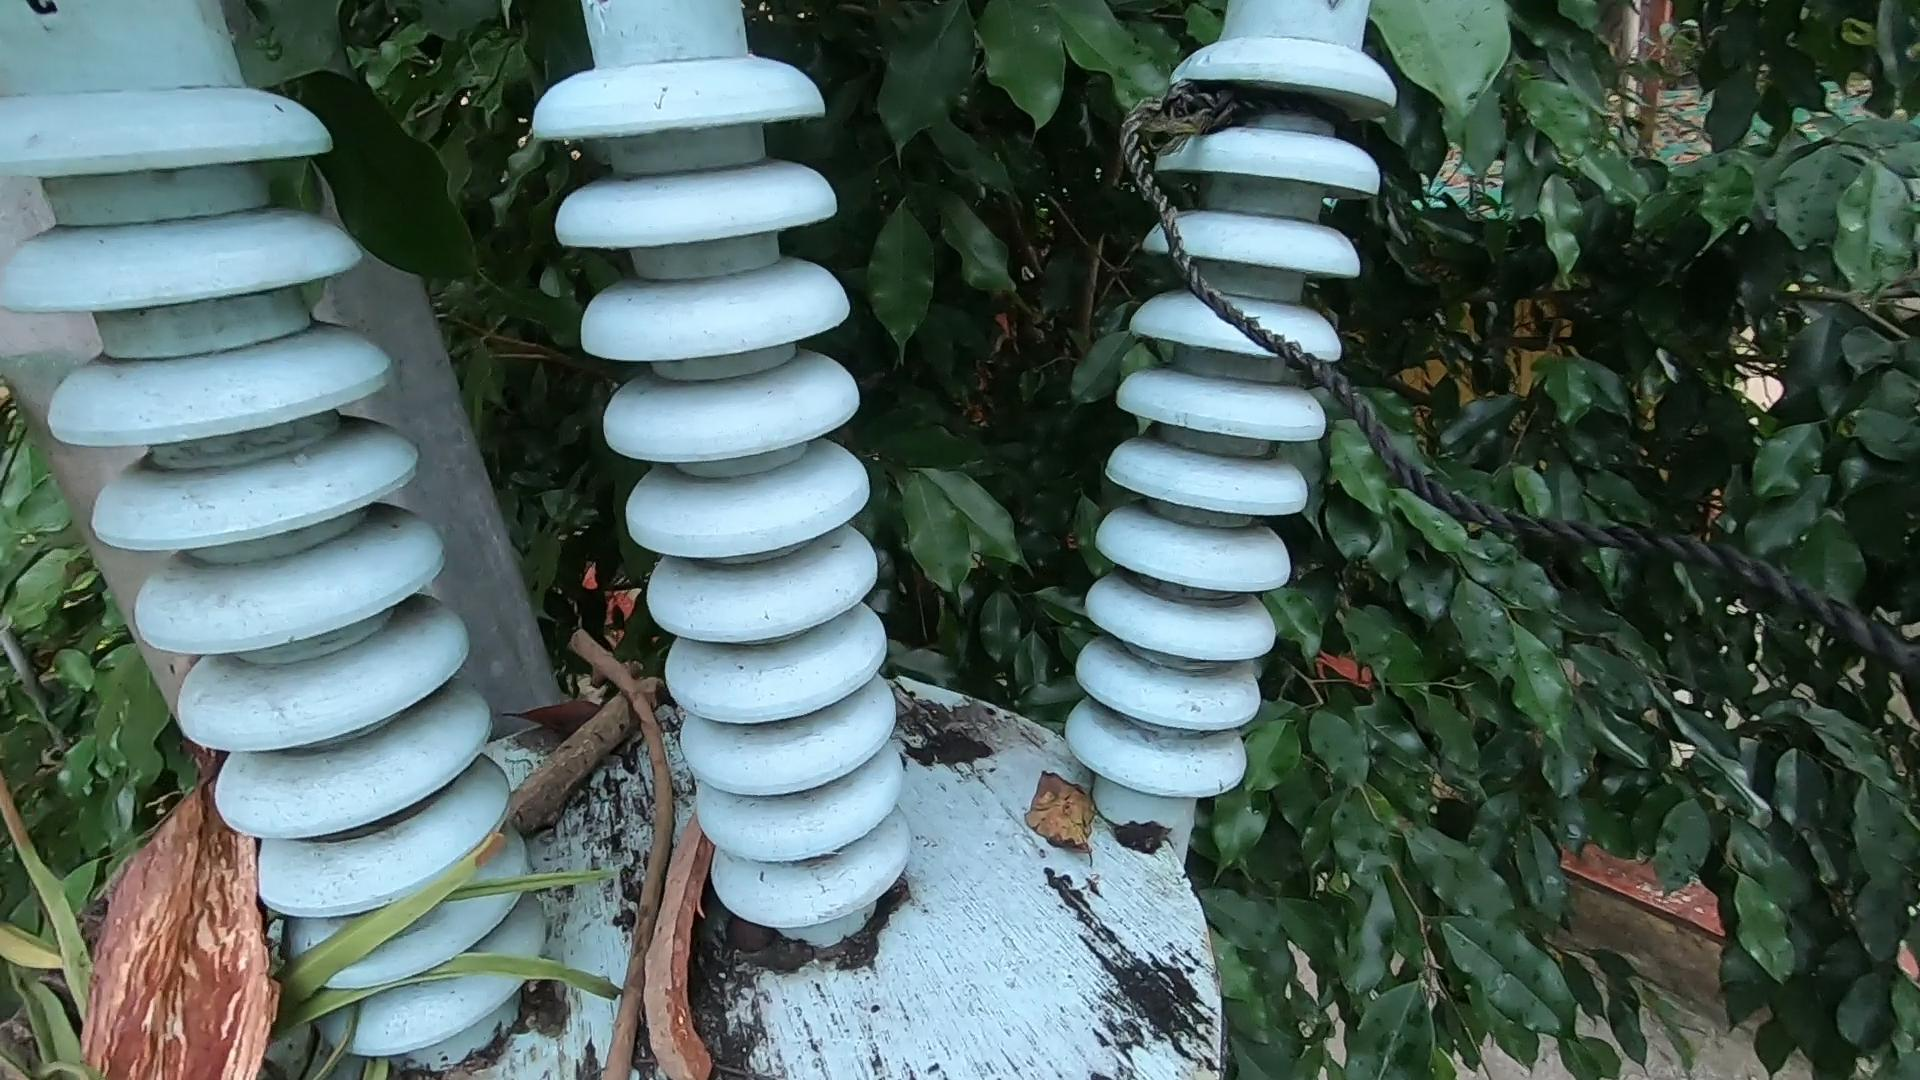branch with leaves: (49, 609, 713, 1080)
leaf: (1033, 752, 1133, 899)
mahogany fruit: (117, 781, 322, 1080), (636, 803, 761, 1080)
tree branch: (562, 613, 694, 1080)
